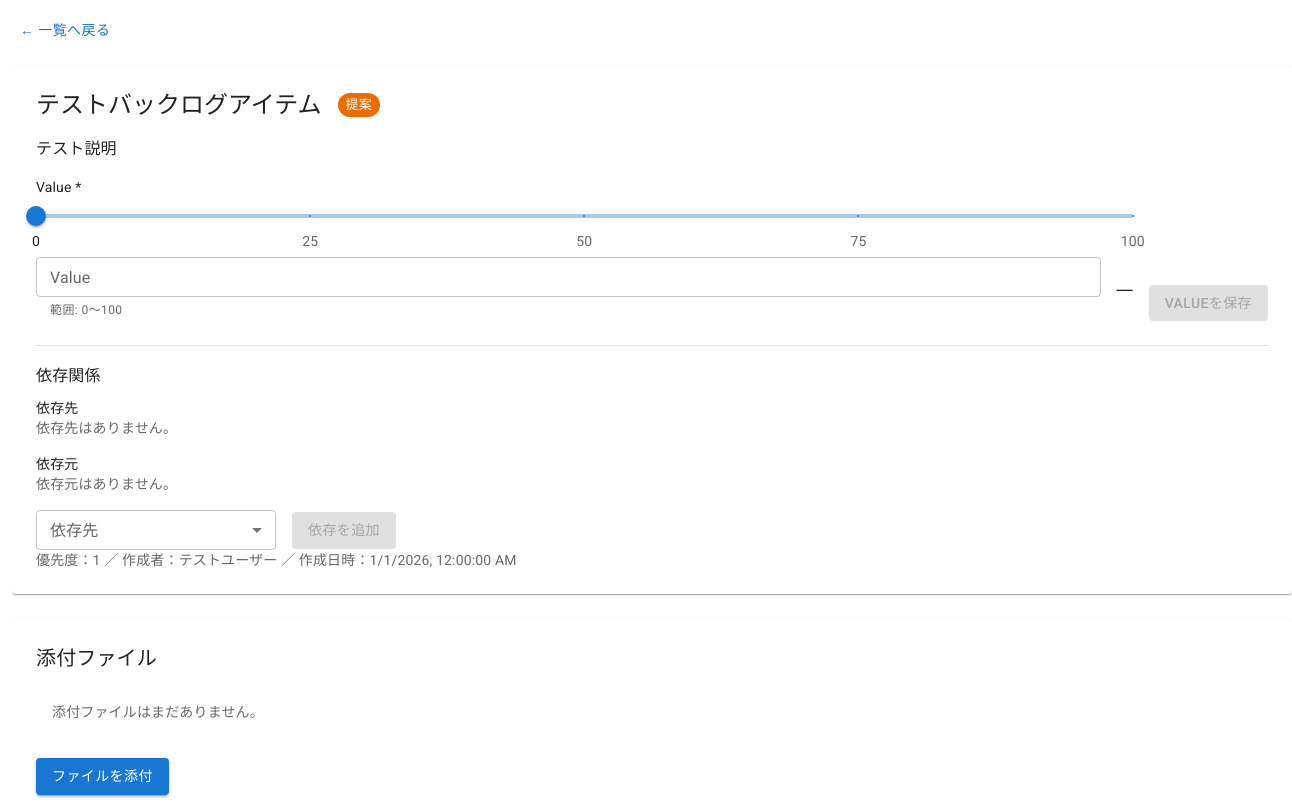
Test: BacklogItemDetail › スライダー › 数値入力の変更がスライダーに反映される
The image size is (1292, 812).
In the number field labelled "Value": point(568, 277) top-left (36, 257), bottom-right (1100, 297), type "75"
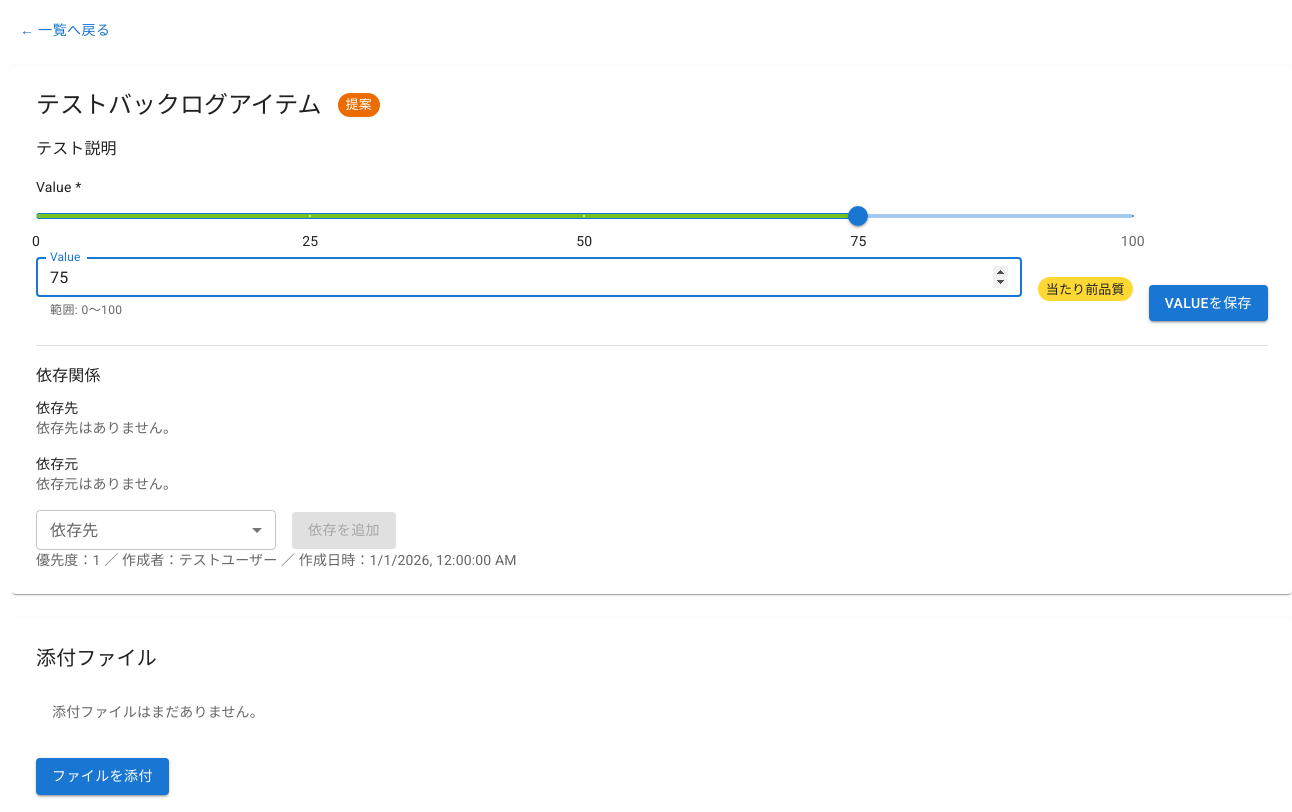
expect the slider holds "75": met, box top-left (848, 206), bottom-right (868, 226)
